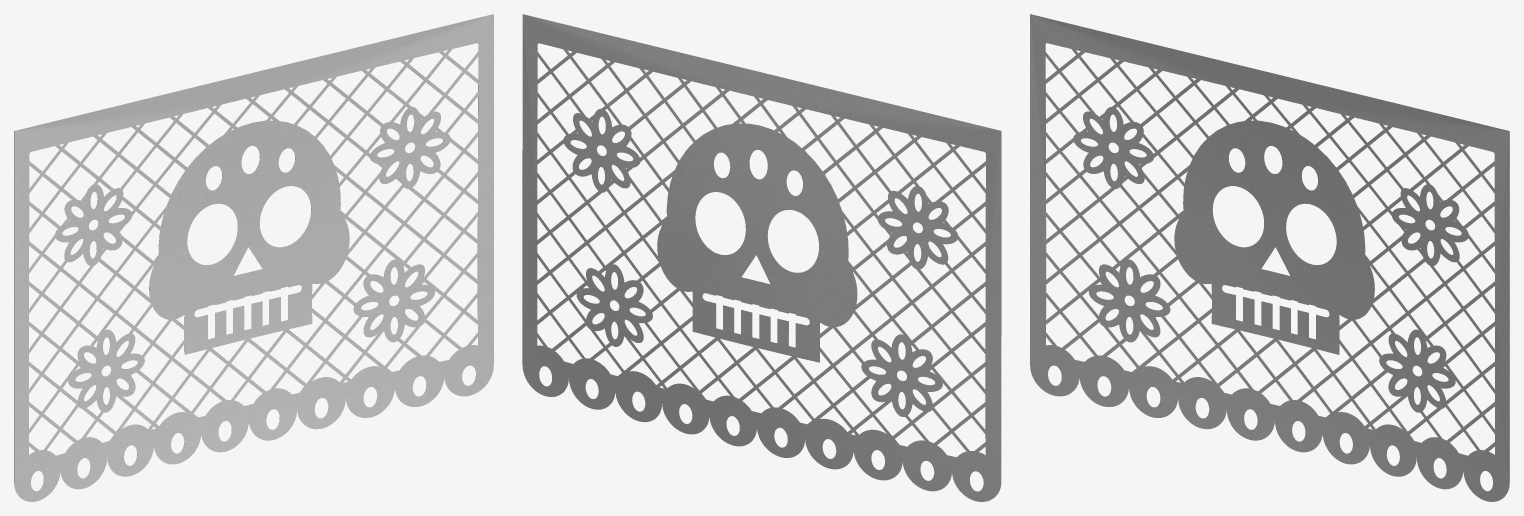
The model's file is papel_1.gltf.
The picture shows the model from 3 angles, left to right: view 1: azimuth 30°, elevation 25°; view 2: azimuth 150°, elevation 25°; view 3: azimuth 330°, elevation 25°; orthographic projection.
Visible parts, largest first — view 1: papel_1; view 2: papel_1; view 3: papel_1.
Part boxes in pixels (left/top/right/bottom): papel_1: left=14, top=14, right=493, bottom=501; papel_1: left=522, top=14, right=1001, bottom=501; papel_1: left=1030, top=14, right=1509, bottom=501.
Size of the model in its own units: 0.4 by 0.3 by 0.00913.
1 material, 1 textured.
